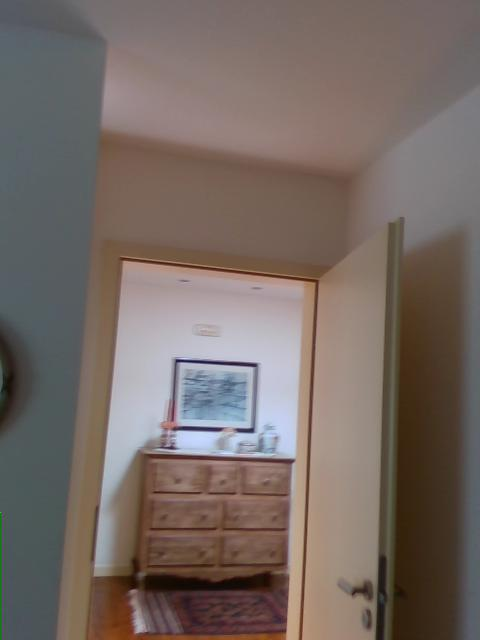open_door: (68, 234, 322, 639)
